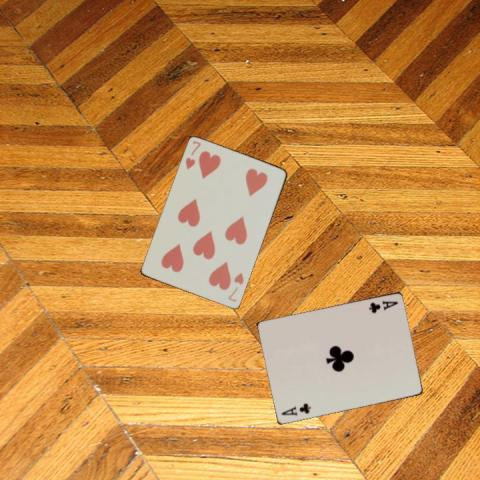7h: (226, 270, 246, 303), (183, 138, 202, 171)
Ac: (366, 298, 399, 315), (278, 401, 312, 417)
